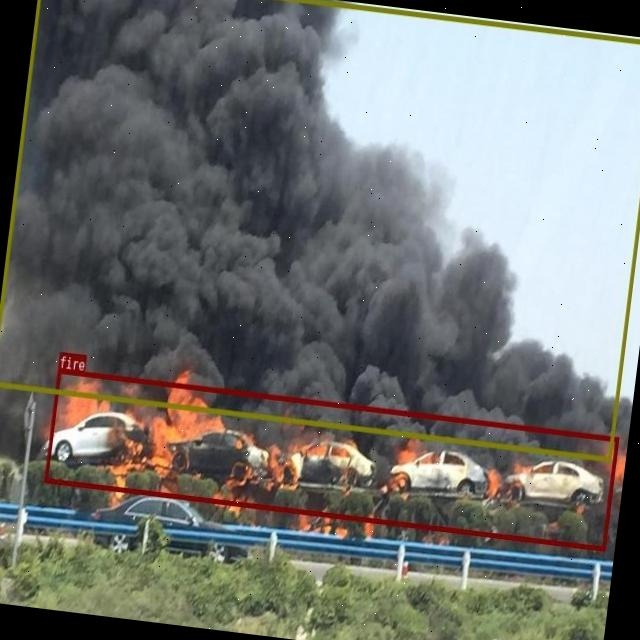fire: (44, 368, 618, 550)
smoke: (0, 0, 640, 460)
